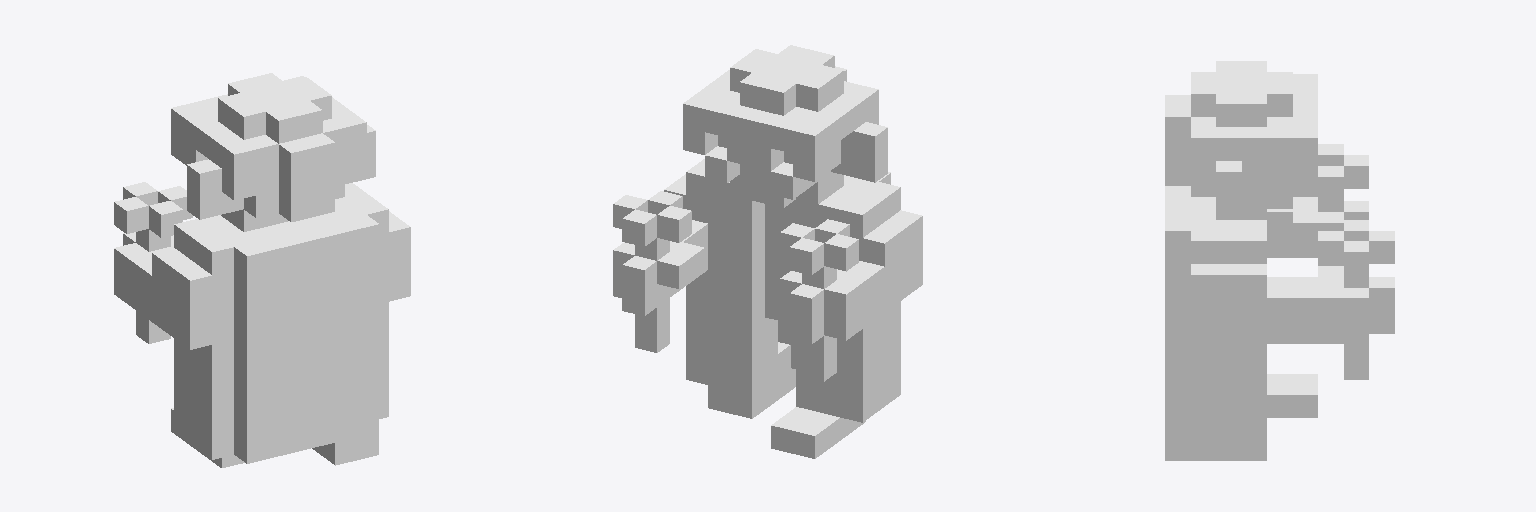
File: scientist01-02.obj
3 views of the same model, side by side, from view 1: azimuth 30°, elevation 25°; view 2: azimuth 150°, elevation 25°; view 3: azimuth 270°, elevation 25° (orthographic).
Size of the model in its own units: 10 by 15 by 9.